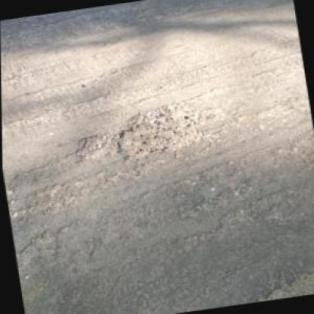Hueco: (110, 104, 205, 162), (74, 132, 116, 165)
